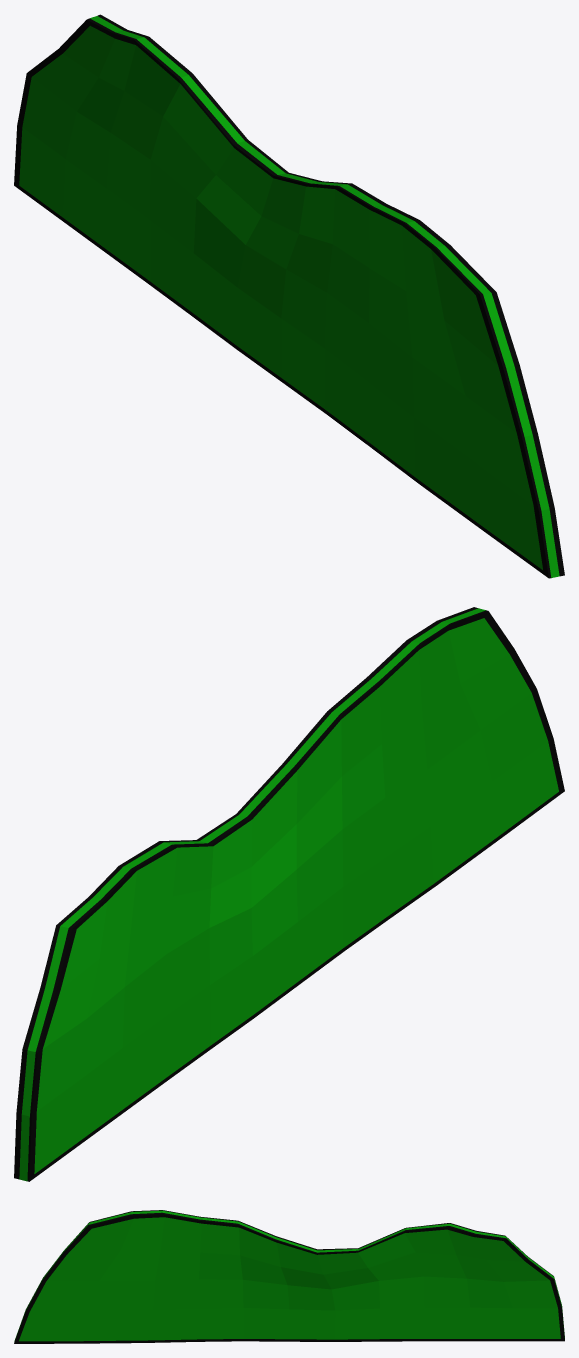
File: CardboardBush08.fbx
3 views of the same model, one above another, from view 1: azimuth 30°, elevation 25°; view 2: azimuth 150°, elevation 25°; view 3: azimuth 270°, elevation 25° (orthographic). The views are drawn at different scales.
Parts seen in each view (by area): view 1: Cube.049; view 2: Cube.049; view 3: Cube.049.
Boxes of the visible parts, bbox=[...] form: Cube.049: bbox=[14, 14, 564, 578]; Cube.049: bbox=[14, 607, 564, 1181]; Cube.049: bbox=[14, 1210, 564, 1343].
Bounding box in the file's own units: 29.24 × 199 × 765.
